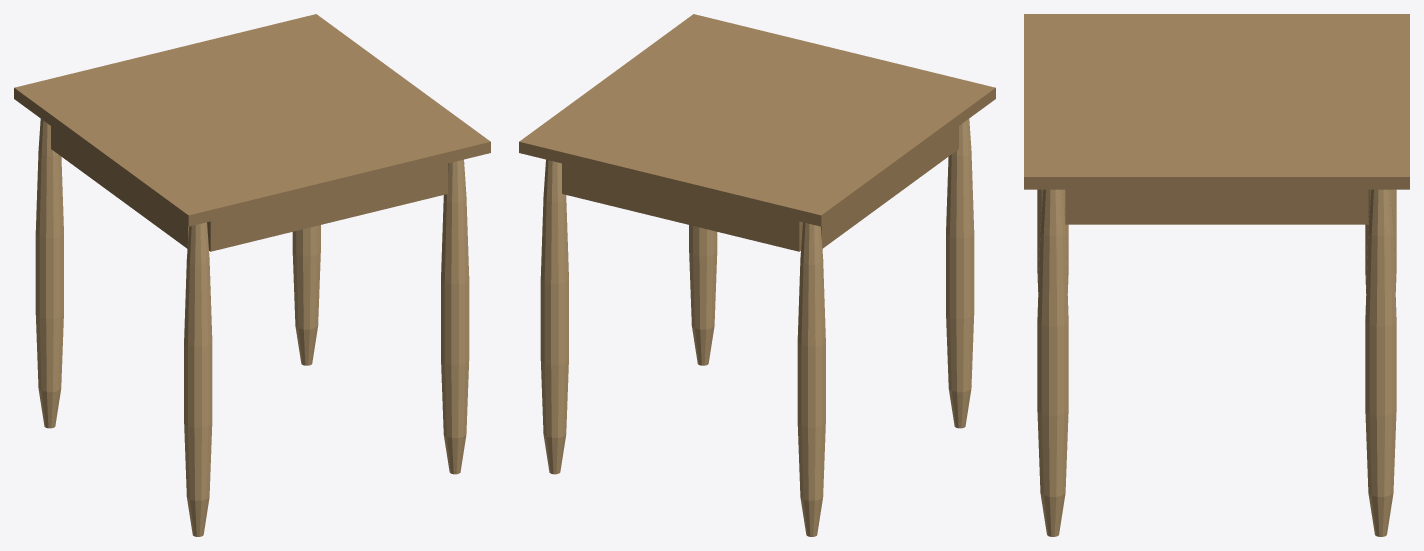
File: SAB-OBT-std.glb
The picture shows the model from 3 angles, left to right: view 1: azimuth 30°, elevation 25°; view 2: azimuth 150°, elevation 25°; view 3: azimuth 270°, elevation 25°; orthographic projection. The views are drawn at different scales.
Parts seen in each view (by area): view 1: top:pbr, leg-fl:pbr, leg-fr:pbr, apron-f:pbr, leg-bl:pbr, leg-br:pbr, apron-l:pbr; view 2: top:pbr, leg-bl:pbr, leg-br:pbr, apron-b:pbr, leg-fl:pbr, leg-fr:pbr, apron-l:pbr; view 3: top:pbr, apron-r:pbr, leg-fr:pbr, leg-br:pbr, leg-fl:pbr, leg-bl:pbr.
Part boxes in pixels (x1,y1,x2,y2): top:pbr: [14, 14, 490, 226]; leg-fl:pbr: [184, 222, 212, 536]; leg-fr:pbr: [441, 159, 469, 474]; apron-f:pbr: [207, 163, 447, 251]; leg-bl:pbr: [35, 119, 63, 428]; leg-br:pbr: [292, 225, 320, 365]; apron-l:pbr: [51, 126, 188, 248]; top:pbr: [519, 14, 995, 226]; leg-bl:pbr: [797, 222, 825, 536]; leg-br:pbr: [540, 159, 568, 474]; apron-b:pbr: [562, 163, 802, 251]; leg-fl:pbr: [946, 119, 974, 428]; leg-fr:pbr: [689, 225, 717, 365]; apron-l:pbr: [821, 126, 958, 248]; top:pbr: [1024, 14, 1409, 189]; apron-r:pbr: [1065, 189, 1368, 224]; leg-fr:pbr: [1037, 189, 1068, 536]; leg-br:pbr: [1365, 189, 1396, 536]; leg-fl:pbr: [1037, 189, 1068, 293]; leg-bl:pbr: [1365, 189, 1396, 293].
Bounding box in the file's own units: 0.7 × 0.74 × 0.7.
